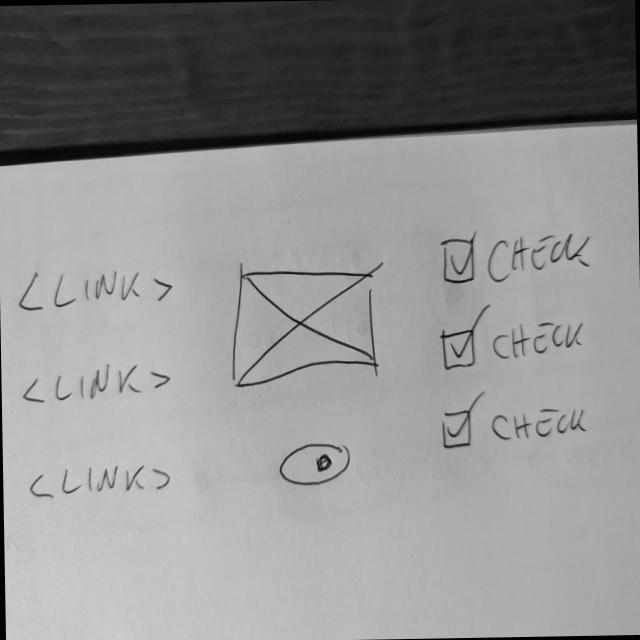checkbox: (438, 226, 595, 287), (439, 314, 588, 374), (438, 402, 590, 452)
image: (225, 262, 378, 394)
link: (14, 265, 174, 315), (19, 358, 172, 410), (28, 461, 174, 503)
toggle: (277, 437, 354, 488)
